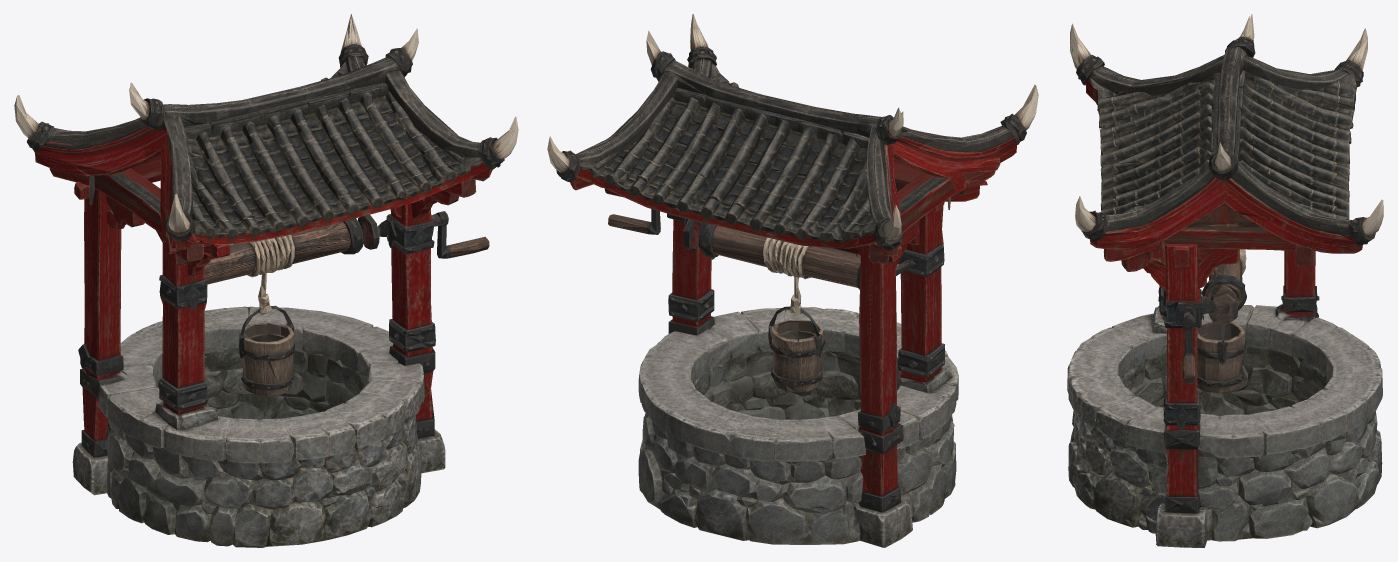
File: well_stone.glb
3 views of the same model, side by side, from view 1: azimuth 30°, elevation 25°; view 2: azimuth 150°, elevation 25°; view 3: azimuth 270°, elevation 25° (orthographic). The views are drawn at different scales.
Parts seen in each view (by area): view 1: Mesh_0; view 2: Mesh_0; view 3: Mesh_0.
Part boxes in pixels (box(x1,y1,x2,y2)): Mesh_0: box(14, 14, 518, 547); Mesh_0: box(547, 14, 1038, 547); Mesh_0: box(1067, 14, 1383, 547).
Size of the model in its own units: 3.18 by 3.3 by 2.33.
Materials: 1 (1 with a texture image).
